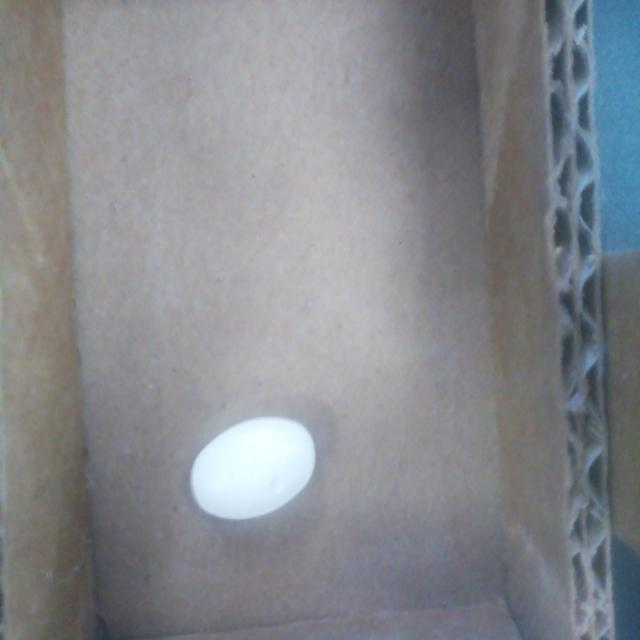pill: (192, 417, 316, 521)
